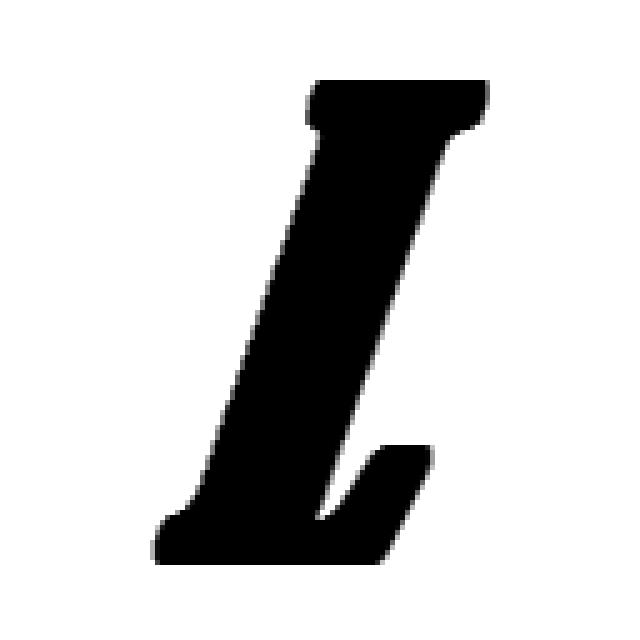L: (148, 72, 493, 570)
